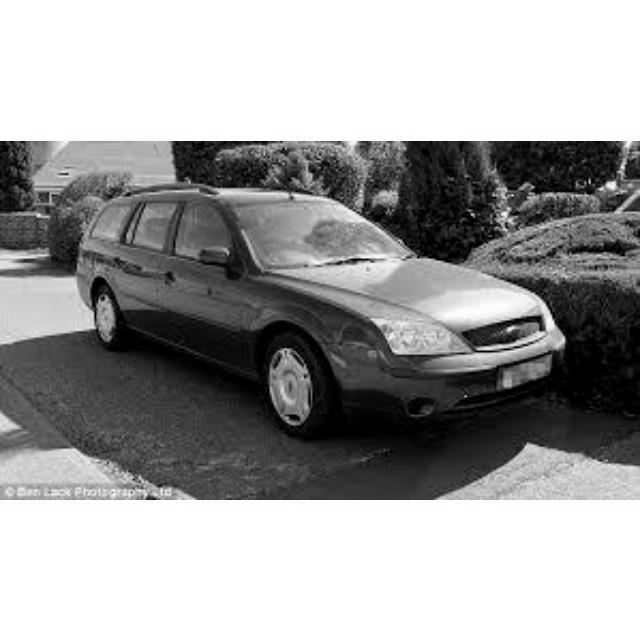bonnet-dent: (306, 253, 496, 315)
front-bumper-dent: (343, 344, 524, 418)
